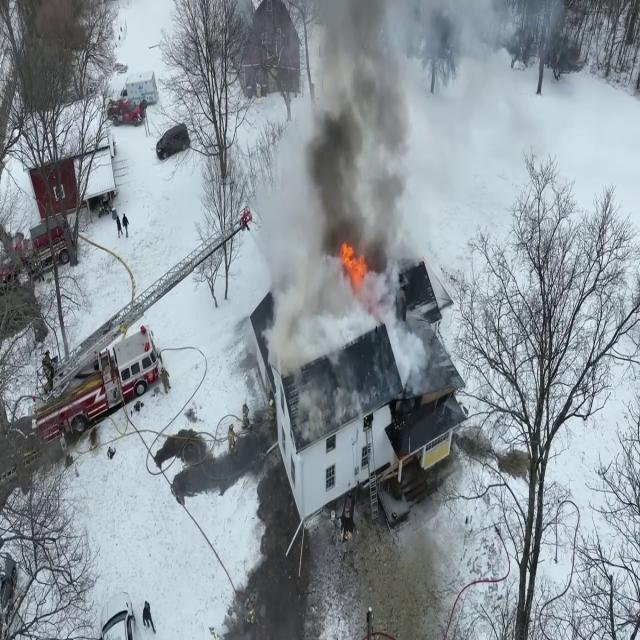Fire: (337, 232, 367, 286)
Smoke: (248, 0, 443, 369)
